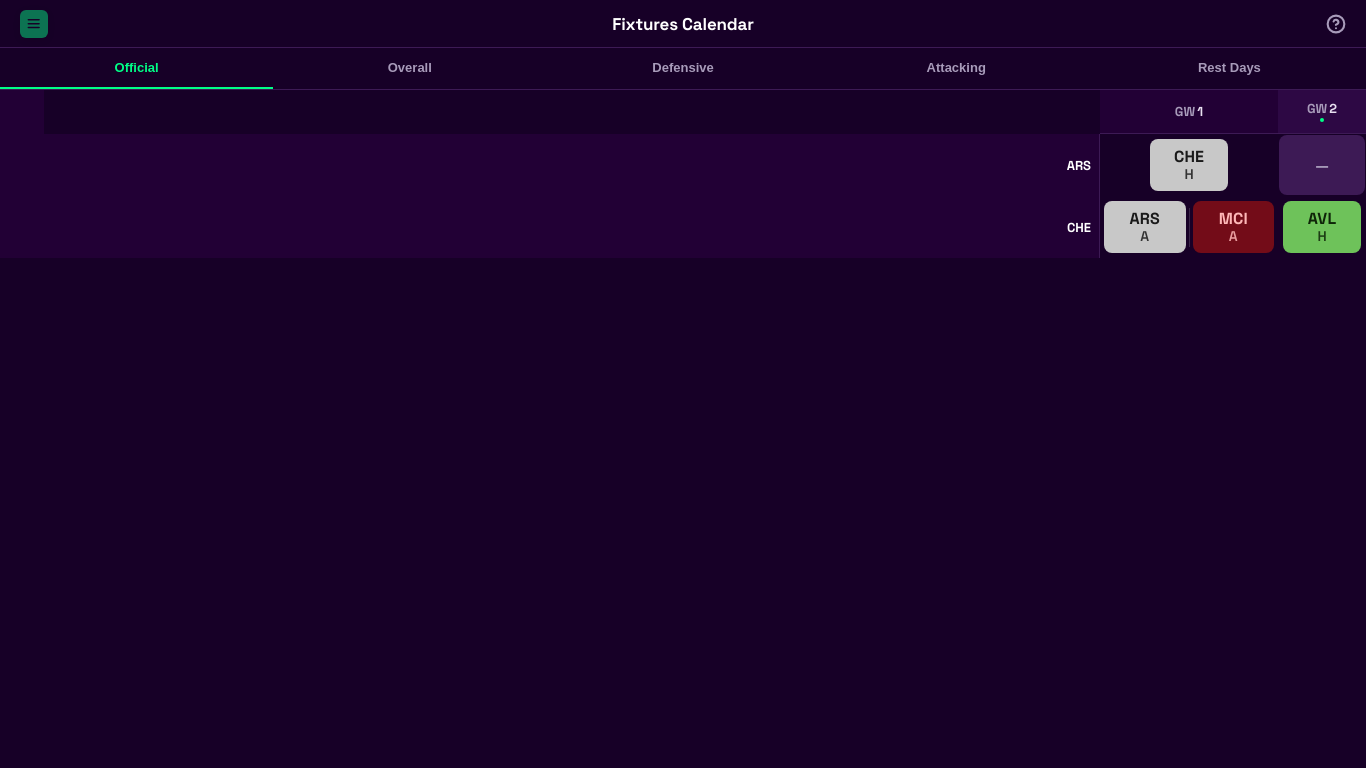
FixturesCalendarScreen › opens help bottom sheet from header button
Click the button named "Open help". click: (1336, 24)
box: [1326,14,1346,34]
(page scrolled)
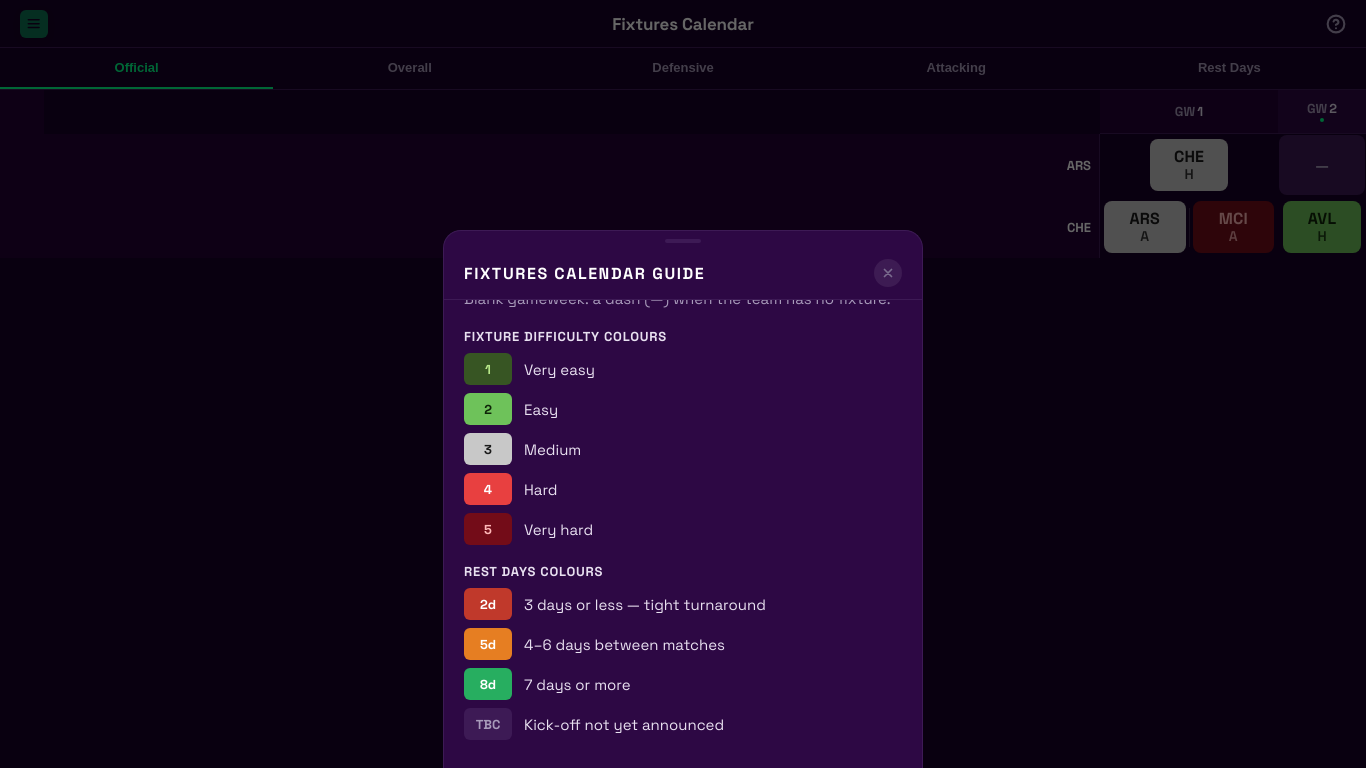
Result: the dialog "Fixtures calendar guide" is shown at [443,230,923,767]
Result: the heading "Fixture difficulty colours" is shown at [464,328,667,345]
Result: the text "Very easy" is shown at [524,360,595,379]
